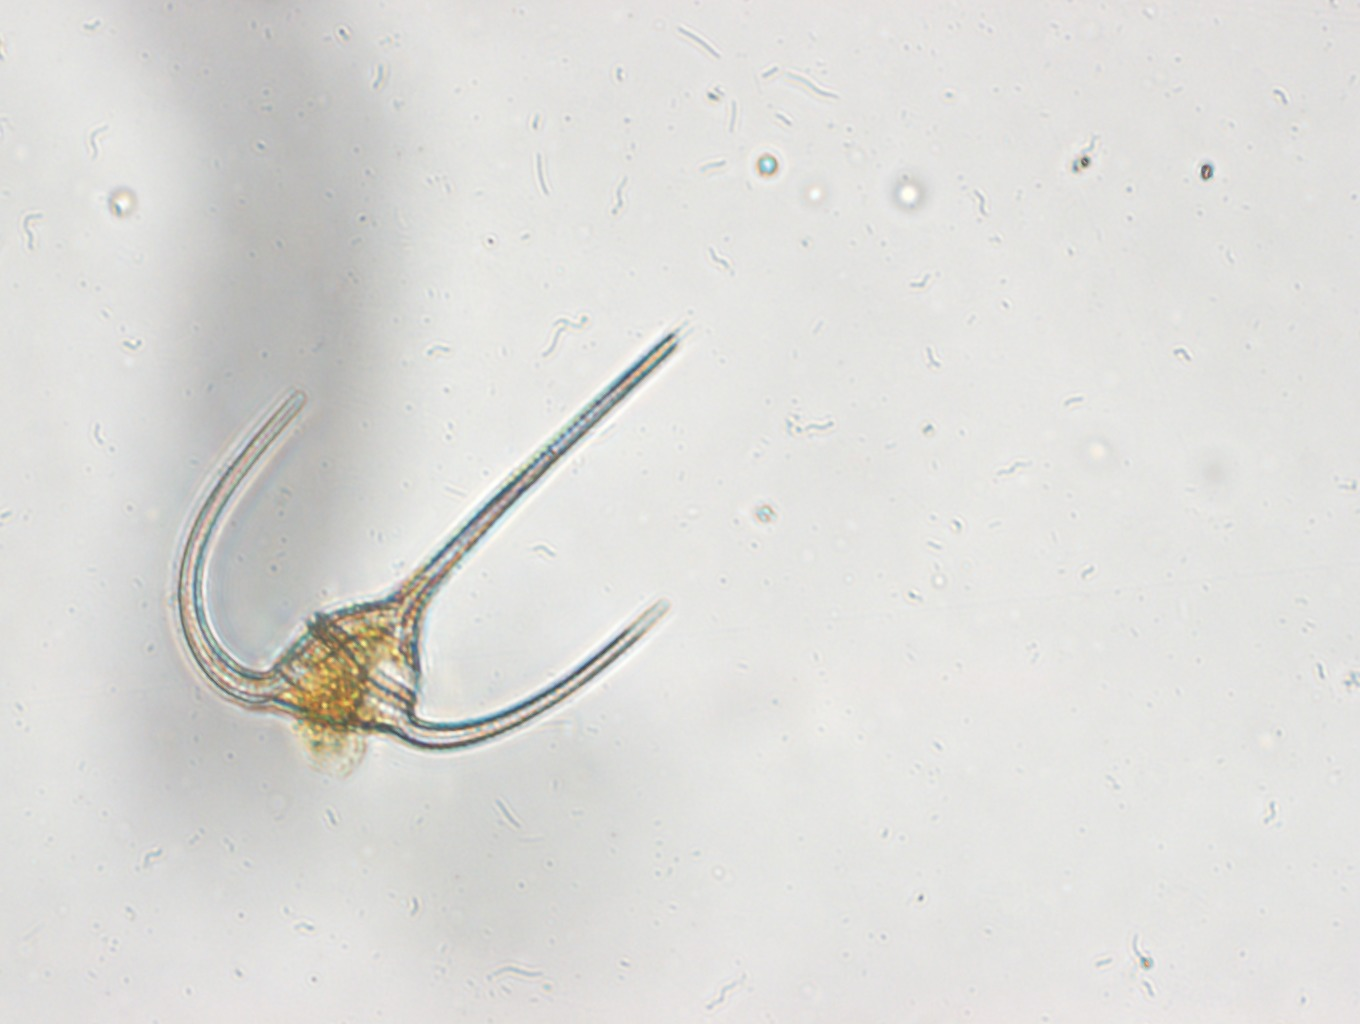ceratium trichoceros: (163, 321, 693, 758)
